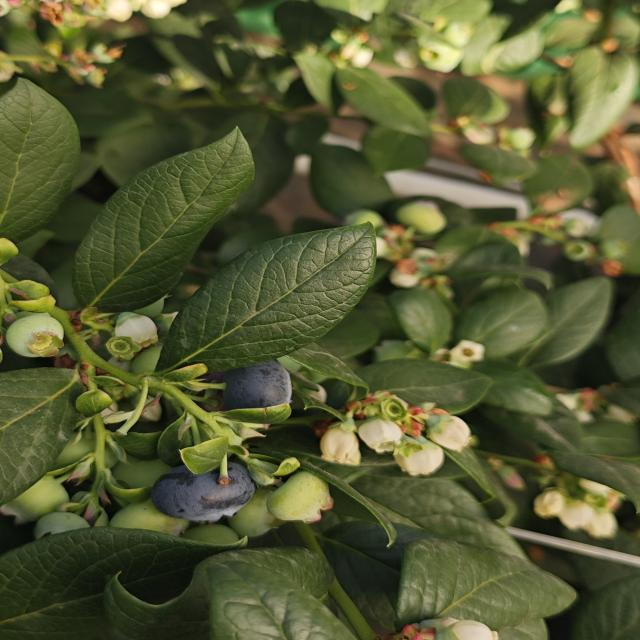ripe: (148, 459, 258, 525), (218, 358, 295, 413)
